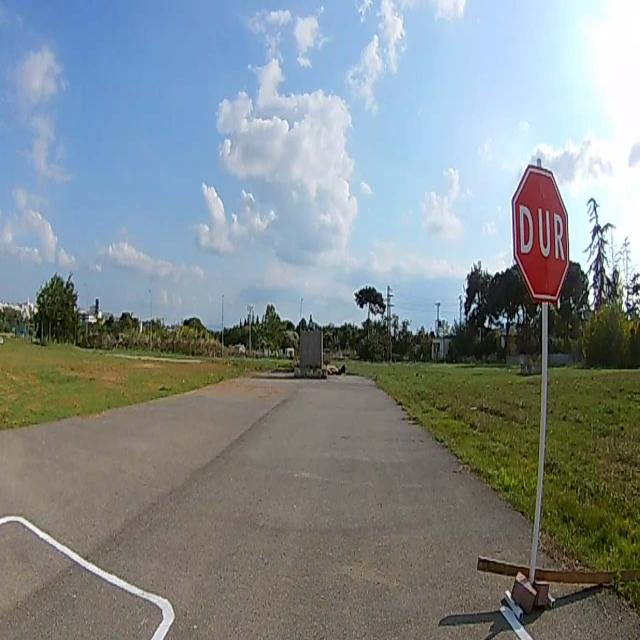dur: (512, 165, 570, 302)
